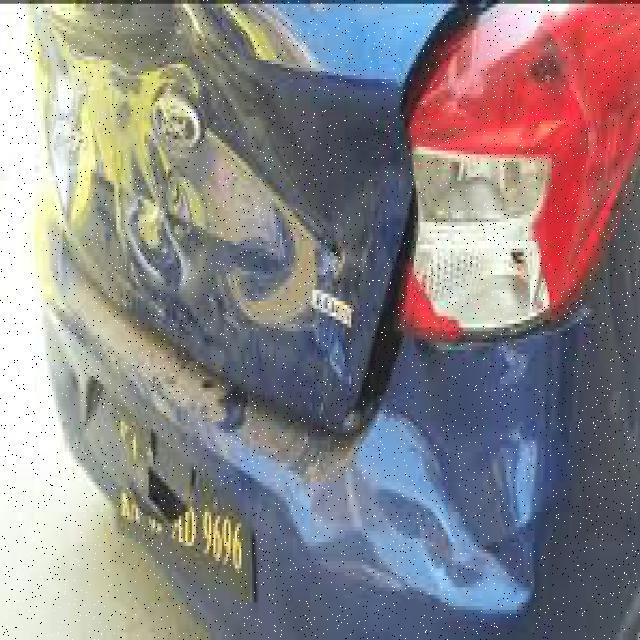Taillight-Damage: (396, 0, 638, 335)
rear-bumper-dent: (181, 343, 586, 636)
